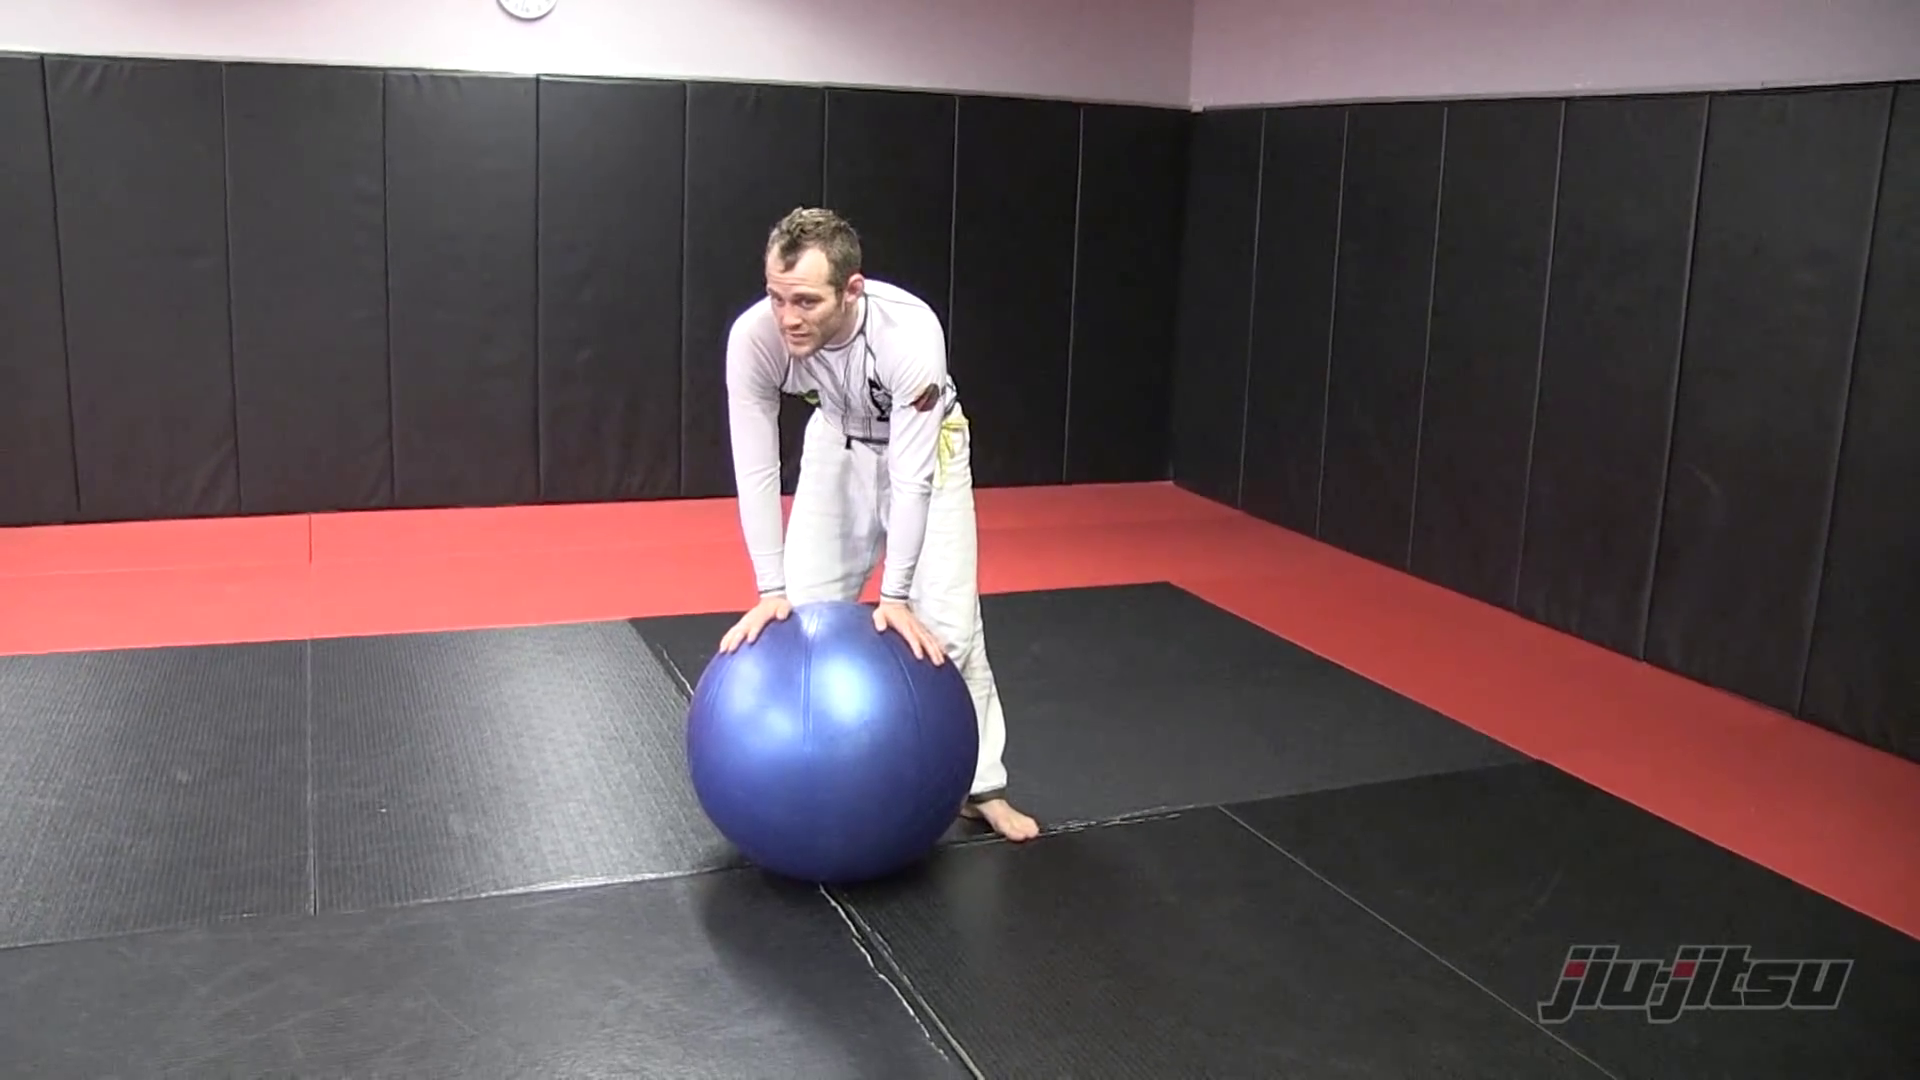yogaball: (669, 589, 1004, 905)
